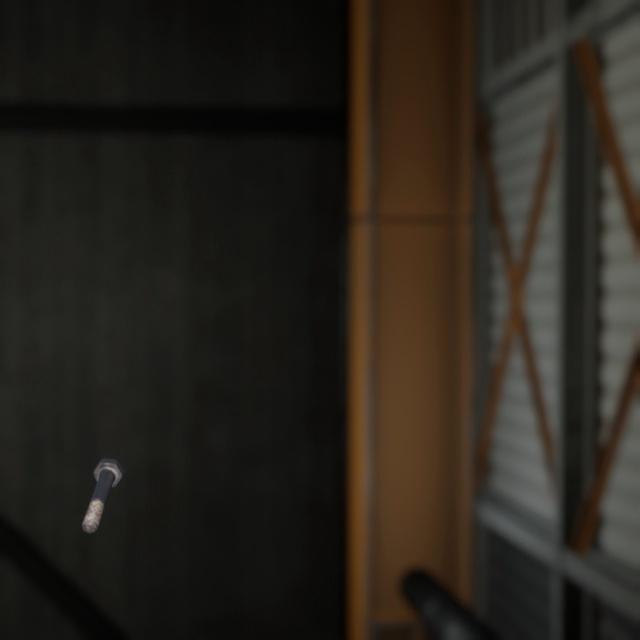bolt: (77, 433, 128, 516)
